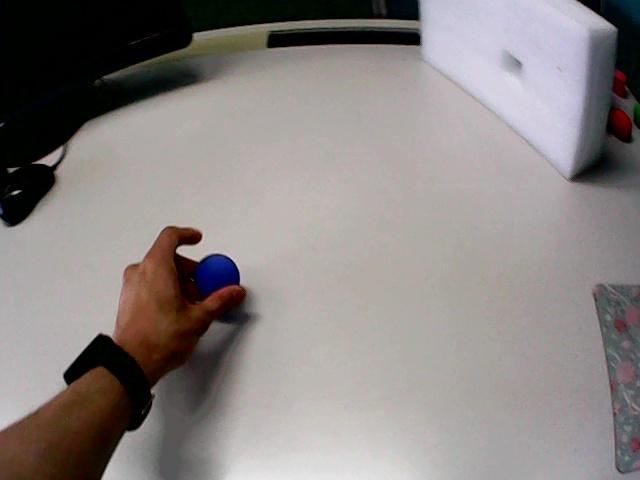blue_block: (602, 0, 639, 94)
